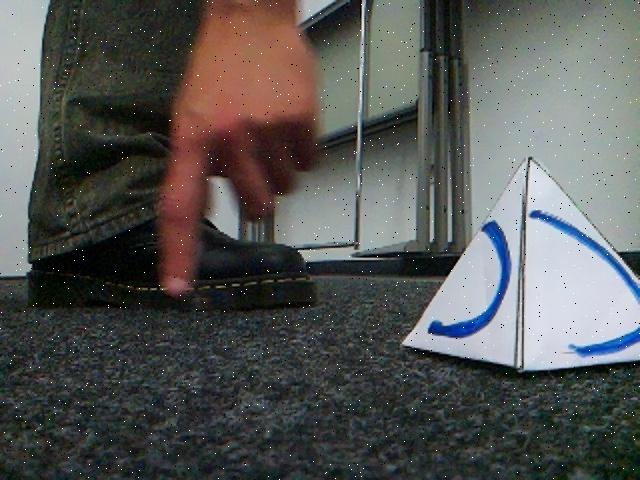C: (404, 155, 640, 372)
